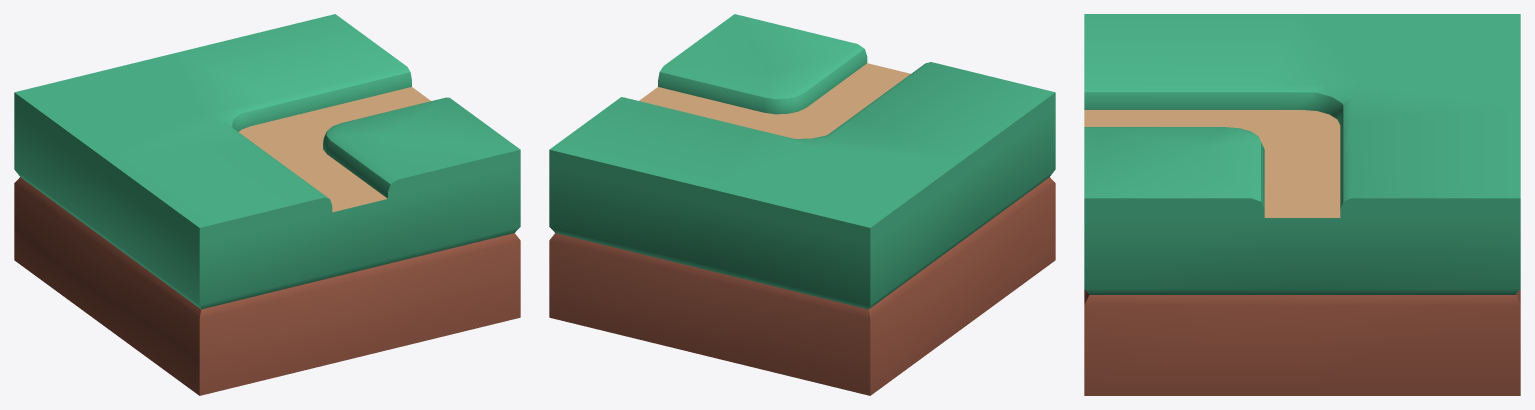
File: square_forest_roadC_detail.glb
3 views of the same model, side by side, from view 1: azimuth 30°, elevation 25°; view 2: azimuth 150°, elevation 25°; view 3: azimuth 270°, elevation 25° (orthographic). The views are drawn at different scales.
Visible parts, largest first — view 1: square_forest_roadC_detail; view 2: square_forest_roadC_detail; view 3: square_forest_roadC_detail.
Boxes of the visible parts, bbox=[...] form: square_forest_roadC_detail: bbox=[14, 14, 520, 395]; square_forest_roadC_detail: bbox=[549, 14, 1055, 395]; square_forest_roadC_detail: bbox=[1084, 14, 1520, 395].
Size of the model in its own units: 2 by 1 by 2.
